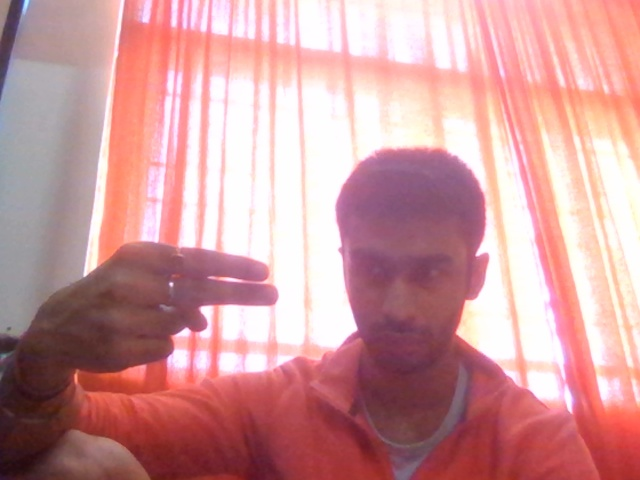H: (12, 218, 314, 420)
